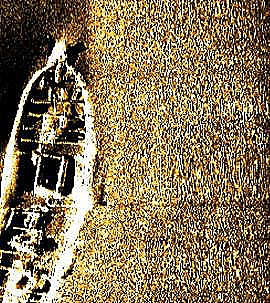ship: (1, 38, 98, 303)
